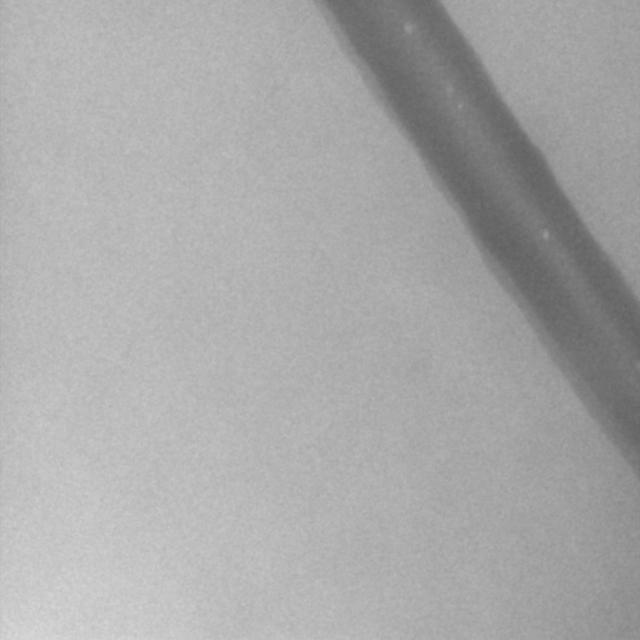air hole: (539, 227, 550, 239)
